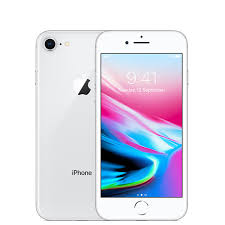iphone8: (90, 24, 191, 222), (33, 26, 95, 221)
